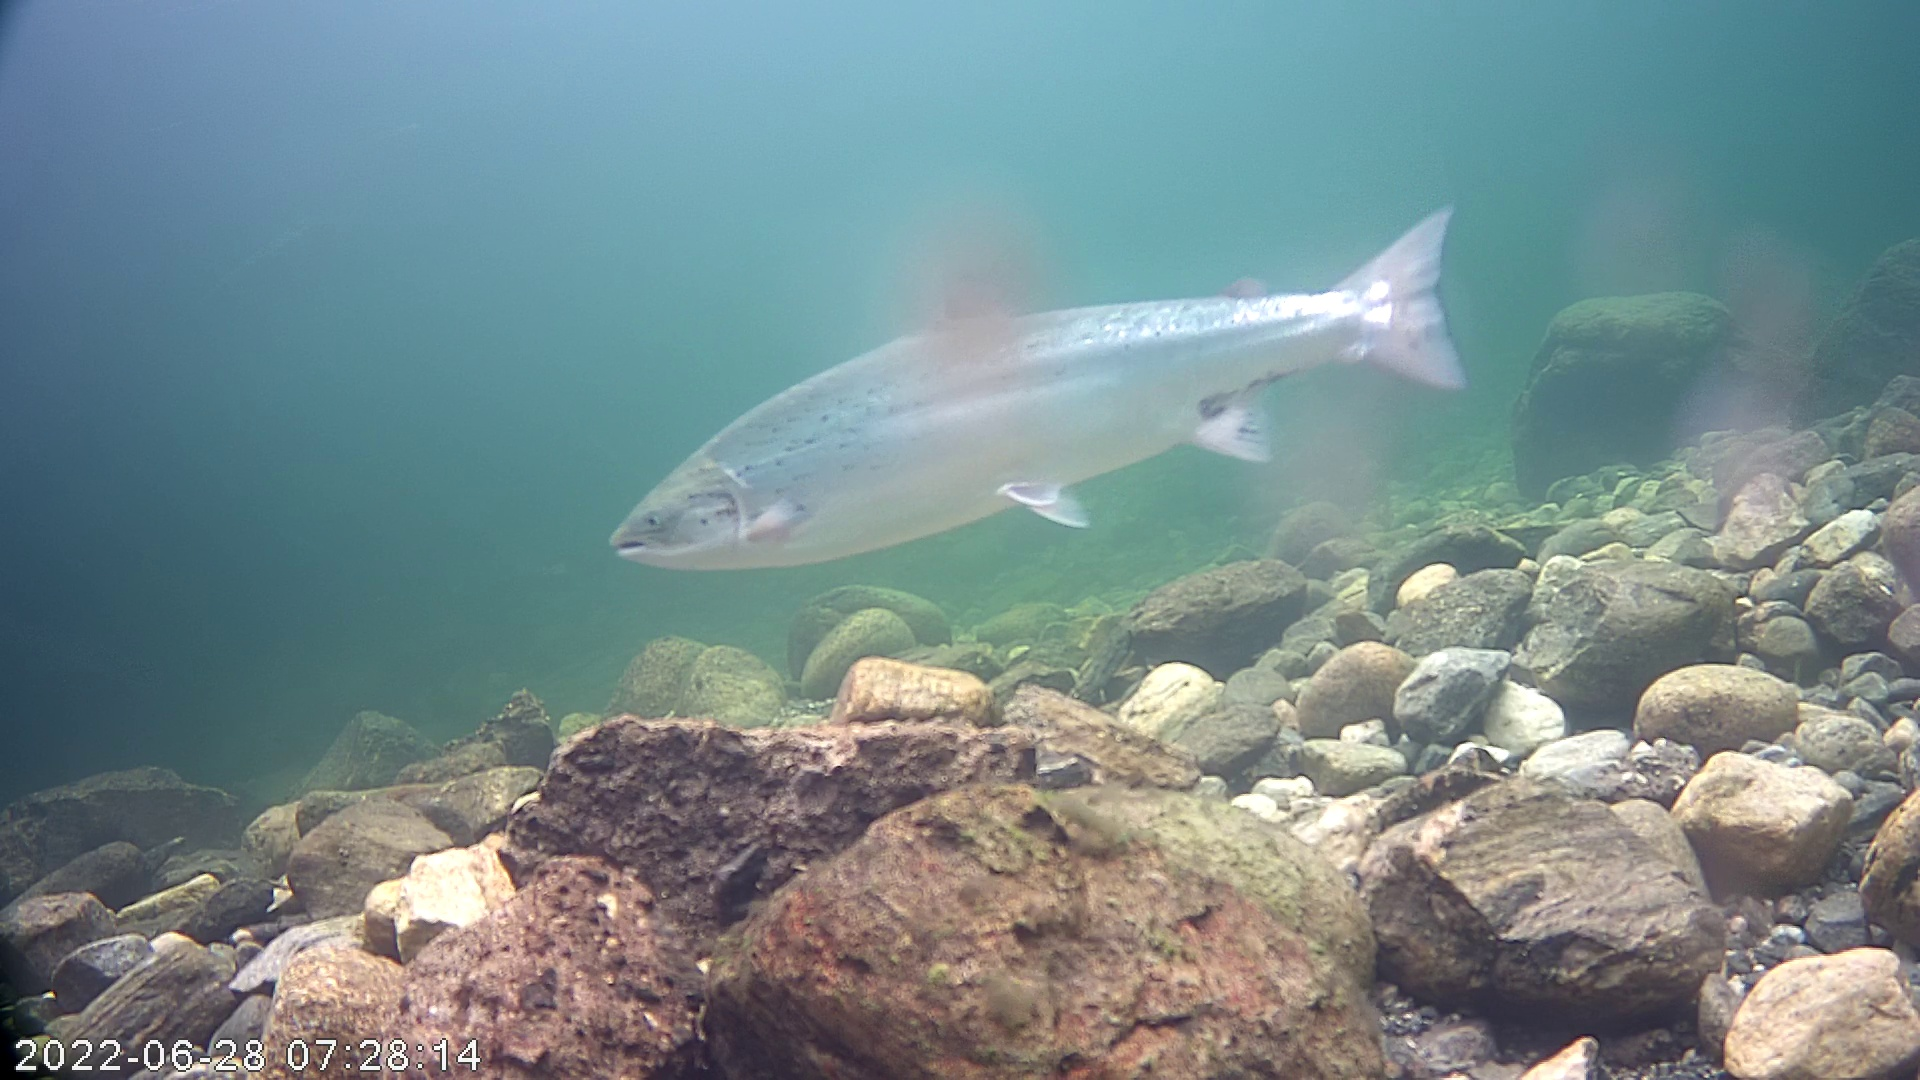salmon: (603, 132, 1505, 609)
